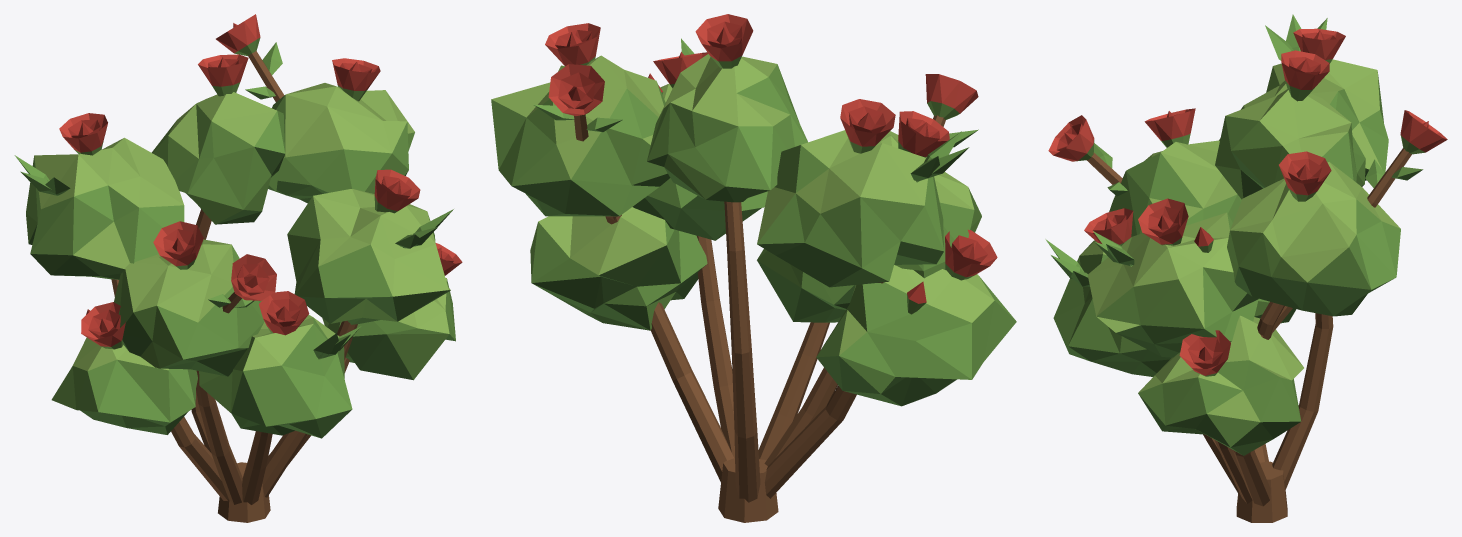
Rendered from FMS_Garden_Rose_Bush.fbx.
3 renders of one model, left to right at view 1: azimuth 30°, elevation 25°; view 2: azimuth 150°, elevation 25°; view 3: azimuth 270°, elevation 25°, orthographic. The views are drawn at different scales.
Parts seen in each view (by area): view 1: FMS_Garden_Rose_Bush_Body; view 2: FMS_Garden_Rose_Bush_Body; view 3: FMS_Garden_Rose_Bush_Body.
Boxes of the visible parts, x1,y1,x2,y2 form: FMS_Garden_Rose_Bush_Body: [14, 14, 462, 522]; FMS_Garden_Rose_Bush_Body: [491, 14, 1016, 522]; FMS_Garden_Rose_Bush_Body: [1045, 14, 1447, 522].
Size of the model in its own units: 1.05 by 1.09 by 0.878.
